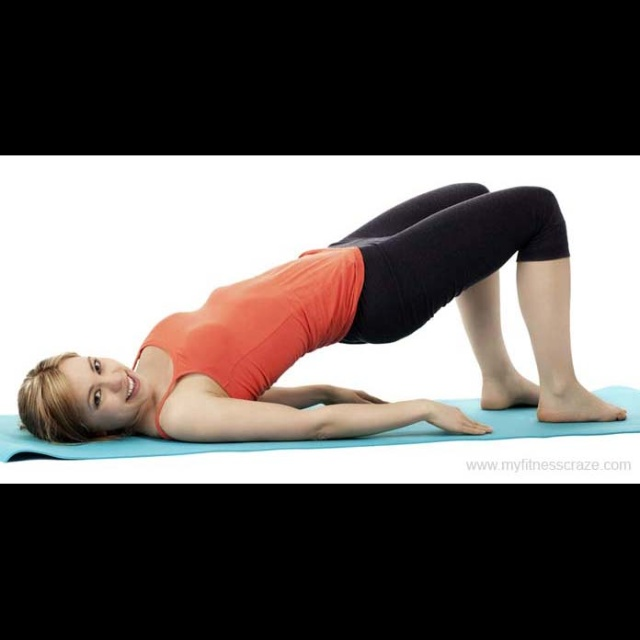Bridge_Pose: (14, 176, 631, 451)
